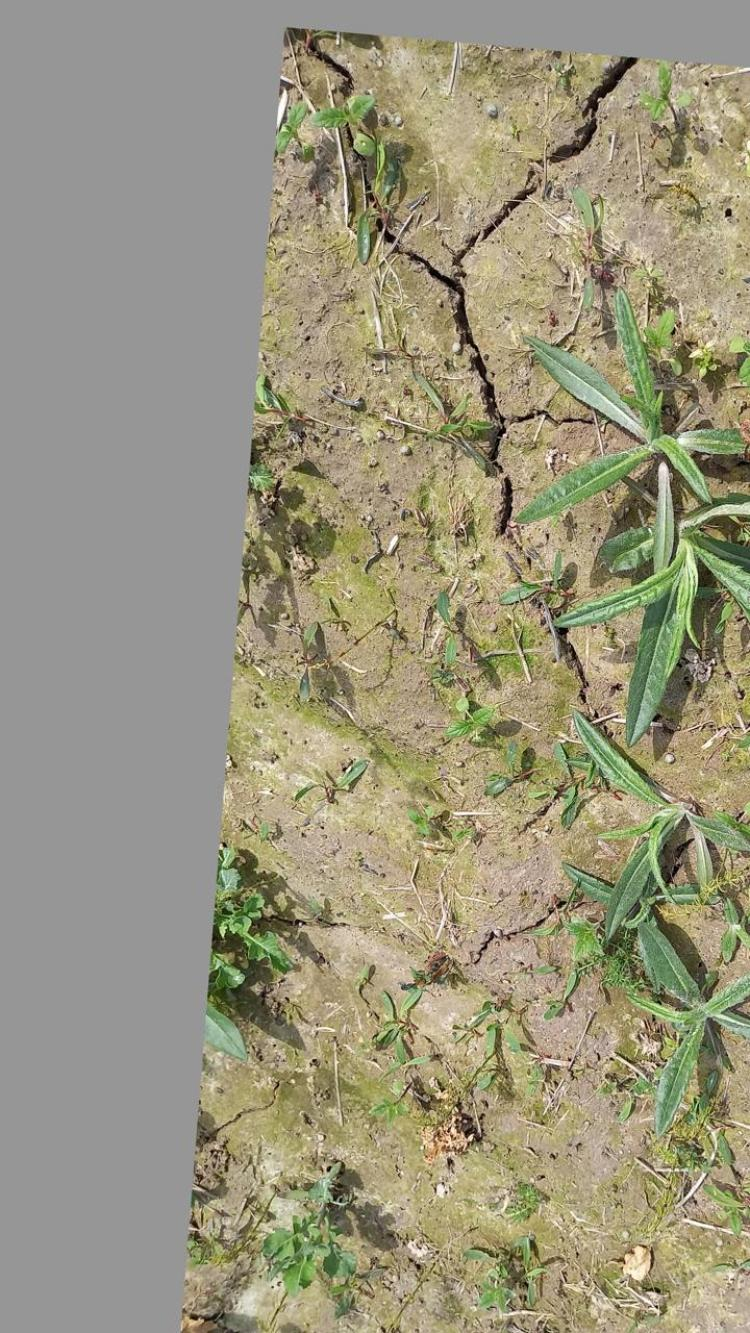osot: (510, 292, 723, 577), (558, 710, 750, 952), (575, 504, 750, 748), (612, 904, 750, 1137)
